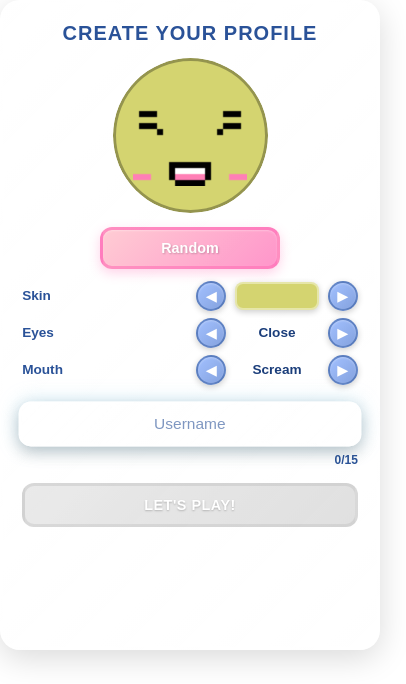
ProfileMenu Component › Profile Submission › should show a fallback error when updateProfile returns no response data
This screenshot has width=406, height=684.
Type "TestUser" into the field. click: (190, 424)
box: [19,402,361,447]
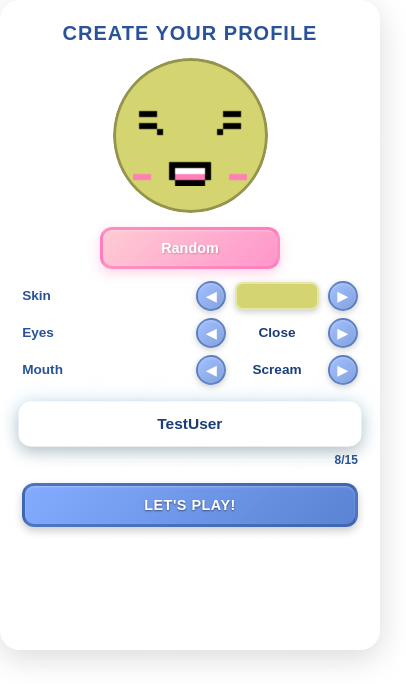
Click the button "Let's Play!". click: (190, 505)
box: [22,483,358,527]
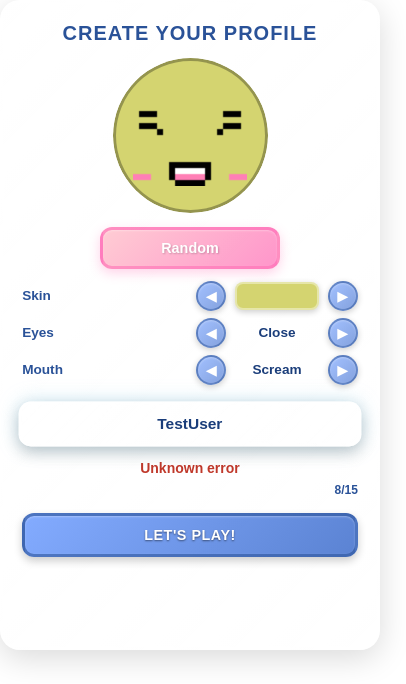
Now the text "Unknown error" is shown, box [140,460,240,476]
